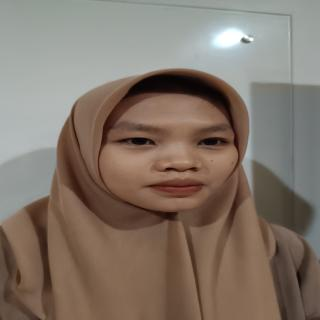Netral: (91, 84, 246, 214)
